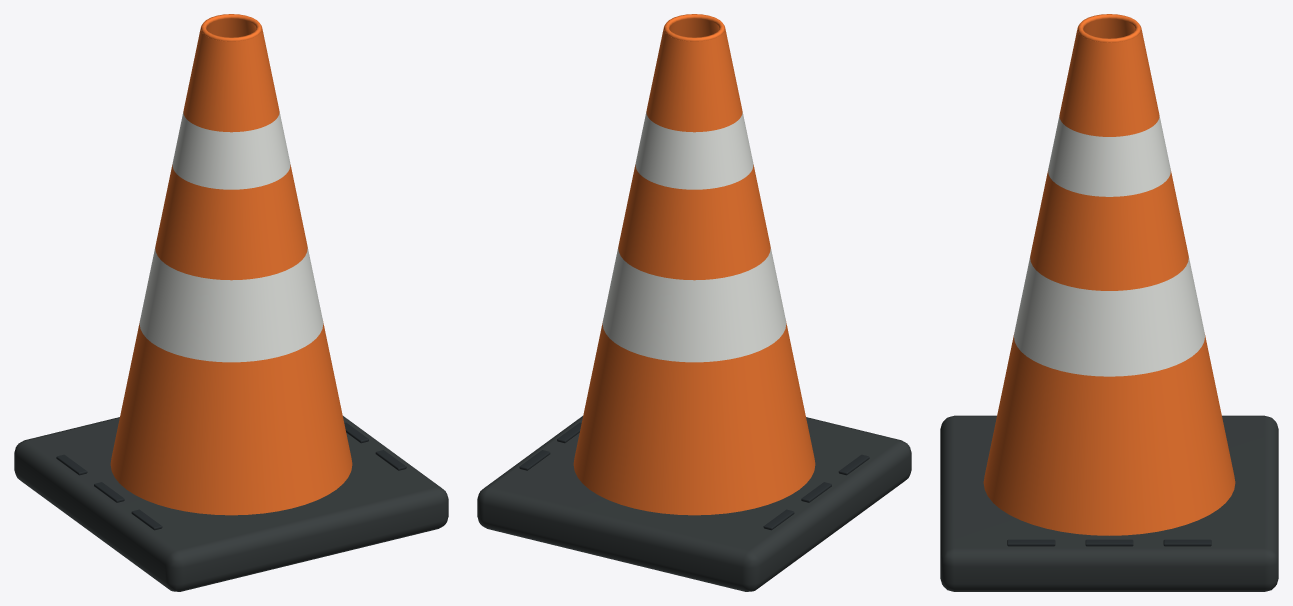
The model's file is city-traffic-cone.glb.
The picture shows the model from 3 angles, left to right: view 1: azimuth 30°, elevation 25°; view 2: azimuth 150°, elevation 25°; view 3: azimuth 270°, elevation 25°; orthographic projection. The views are drawn at different scales.
Visible parts, largest first — view 1: Hollow tapered cone shell, Heavy rubber base, Rounded mouth rim; view 2: Hollow tapered cone shell, Heavy rubber base, Rounded mouth rim; view 3: Hollow tapered cone shell, Heavy rubber base, Rounded mouth rim.
Boxes of the visible parts, box(x1,y1,x2,y2) form: Hollow tapered cone shell: box(110, 18, 352, 515); Heavy rubber base: box(14, 416, 448, 591); Rounded mouth rim: box(200, 14, 262, 41); Hollow tapered cone shell: box(573, 18, 815, 515); Heavy rubber base: box(477, 416, 911, 591); Rounded mouth rim: box(663, 14, 725, 41); Hollow tapered cone shell: box(983, 18, 1235, 535); Heavy rubber base: box(940, 415, 1278, 591); Rounded mouth rim: box(1077, 14, 1141, 42).
Bounding box in the file's own units: 0.39 × 0.633 × 0.39.
